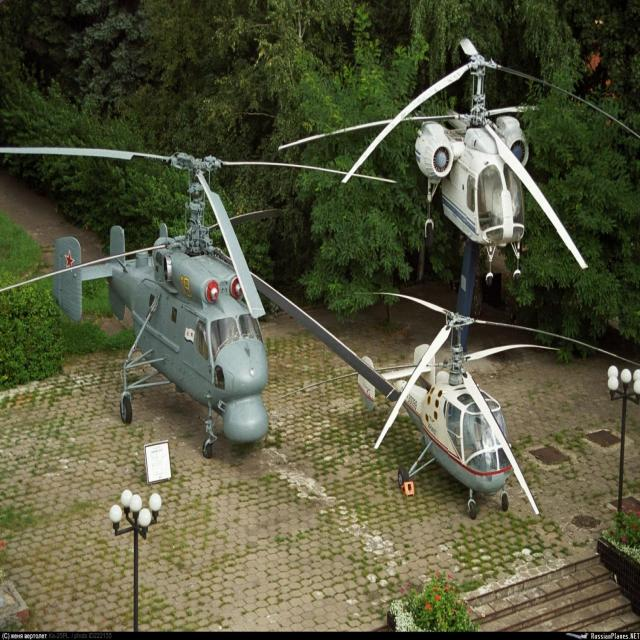MIL_HELO: (0, 122, 365, 470), (284, 28, 638, 298), (349, 272, 564, 523)
